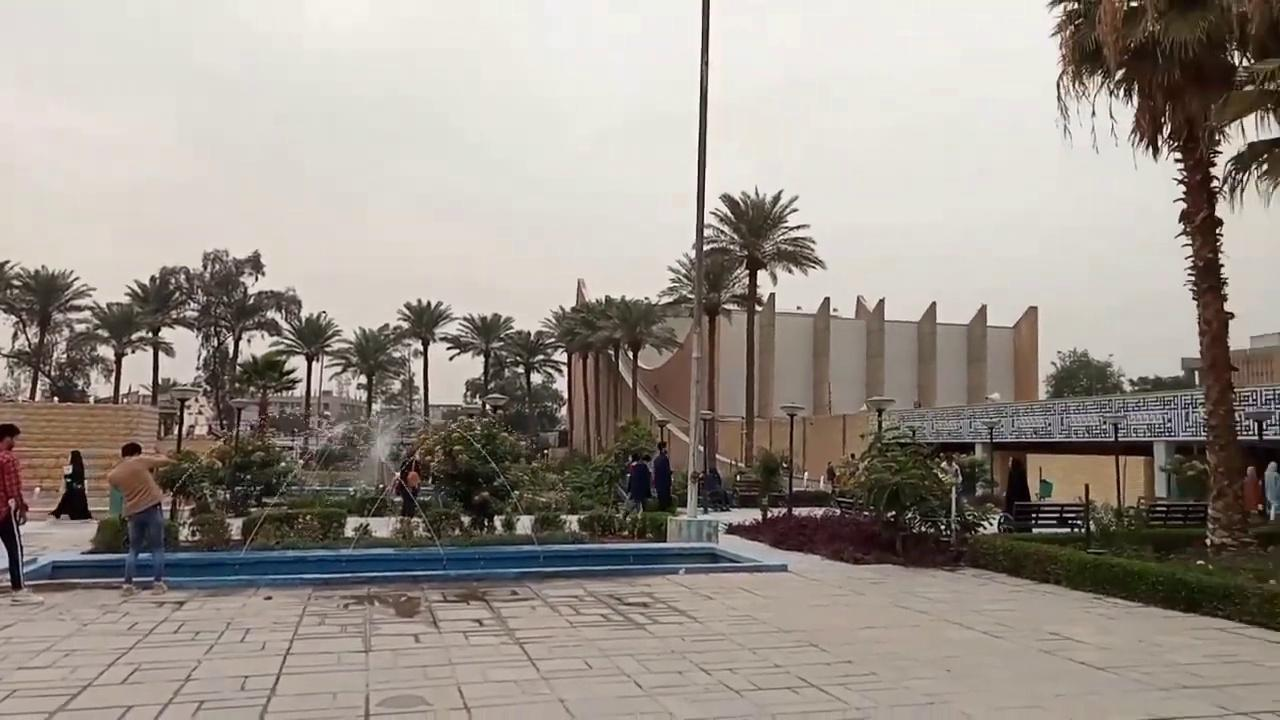fountain: (16, 405, 787, 588), (16, 539, 788, 585), (341, 411, 429, 540)
person: (106, 441, 178, 595), (0, 422, 44, 604), (48, 449, 94, 520), (1003, 456, 1031, 531), (396, 446, 422, 519), (625, 452, 651, 513), (651, 440, 672, 511), (703, 467, 731, 511), (1263, 460, 1279, 521), (1243, 465, 1261, 514), (824, 460, 836, 491)
tree: (1044, 0, 1278, 552), (693, 185, 826, 470), (656, 245, 762, 494), (159, 246, 299, 434), (836, 424, 992, 556), (0, 262, 95, 401), (592, 293, 681, 425), (539, 298, 611, 457), (66, 300, 172, 404), (202, 280, 282, 401), (122, 270, 191, 406), (266, 309, 342, 428), (392, 297, 456, 422), (326, 323, 405, 422), (443, 311, 515, 412), (496, 328, 564, 433), (230, 350, 301, 436), (0, 258, 37, 400), (1042, 346, 1124, 399), (389, 336, 424, 422)
